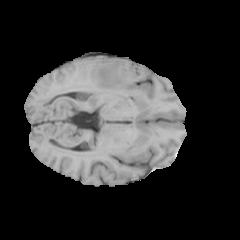glioma: (79, 56, 151, 97)
